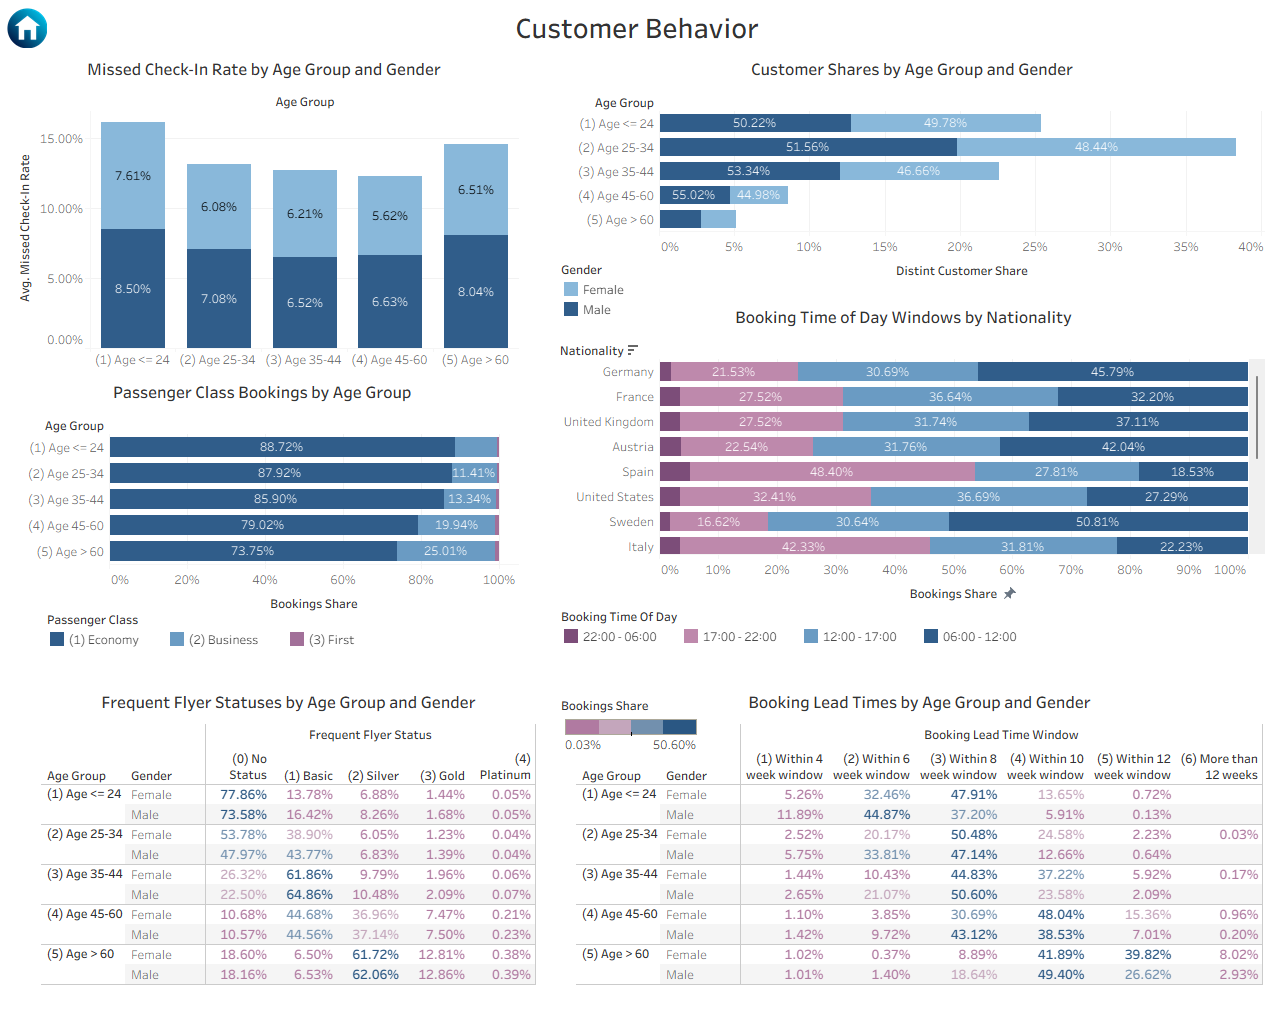

The dashboard page shown, as its layout file describes it:
{"tool":"tableau","page":{"name":"(5) Customer Behavior","canvas":[650,860],"ordinal":4},"visuals":[{"type":"worksheet","title":"5.3 Age Class Bars","mark":"Automatic","rows":["age_group"],"box":[8,8,237,248]},{"type":"worksheet","title":"5.4 Nationality Booking Bars","mark":"Automatic","rows":["nationality"],"box":[245,8,237,497]},{"type":"legend","title":"5.4 Nationality Booking Bars","param":"[federated.0isbzpg1p7vzi51btk4d81hxu2it].[none:booking_time_of_day:nk]","box":[482,8,160,106]},{"type":"legend","title":"5.1 Missed Check-In Bars","param":"[federated.0isbzpg1p7vzi51btk4d81hxu2it].[none:gender:nk]","box":[482,114,160,66]},{"type":"legend","title":"5.3 Age Class Bars","param":"[federated.0isbzpg1p7vzi51btk4d81hxu2it].[none:class_name:nk]","box":[482,180,160,86]},{"type":"worksheet","title":"5.1 Missed Check-In Bars","mark":"Bar","rows":["Calculation_1752919355715587"],"cols":["age_group"],"box":[8,256,237,249]},{"type":"legend","title":"5.6 Lead Times Heatmap","param":"[federated.0isbzpg1p7vzi51btk4d81hxu2it].[pcto:sum:bookings:qk]","box":[482,266,160,65]},{"type":"worksheet","title":"5.2 Customer Composition","mark":"Automatic","rows":["age_group"],"cols":["distinct_customers"],"box":[482,331,160,521]},{"type":"worksheet","title":"5.5 Flyer Status Heatmap","mark":"Automatic","rows":["age_group","gender"],"cols":["frequent_flyer_status"],"box":[8,505,237,347]},{"type":"worksheet","title":"5.6 Lead Times Heatmap","mark":"Automatic","rows":["age_group","gender"],"cols":["booking_lead_time"],"box":[245,505,237,347]}]}

Visuals, with their boxes on the page's 650x860 design canvas (x1, y1, x2, y2). These are canvas units, not pixel positions in the 1273x1016 screenshot, which may show the page scaled, cropped or inside an application window:
"5.3 Age Class Bars" worksheet: locate(8, 8, 245, 256)
"5.4 Nationality Booking Bars" worksheet: locate(245, 8, 482, 505)
"5.4 Nationality Booking Bars" legend: locate(482, 8, 642, 114)
"5.1 Missed Check-In Bars" legend: locate(482, 114, 642, 180)
"5.3 Age Class Bars" legend: locate(482, 180, 642, 266)
"5.1 Missed Check-In Bars" worksheet (Bar marks): locate(8, 256, 245, 505)
"5.6 Lead Times Heatmap" legend: locate(482, 266, 642, 331)
"5.2 Customer Composition" worksheet: locate(482, 331, 642, 852)
"5.5 Flyer Status Heatmap" worksheet: locate(8, 505, 245, 852)
"5.6 Lead Times Heatmap" worksheet: locate(245, 505, 482, 852)
